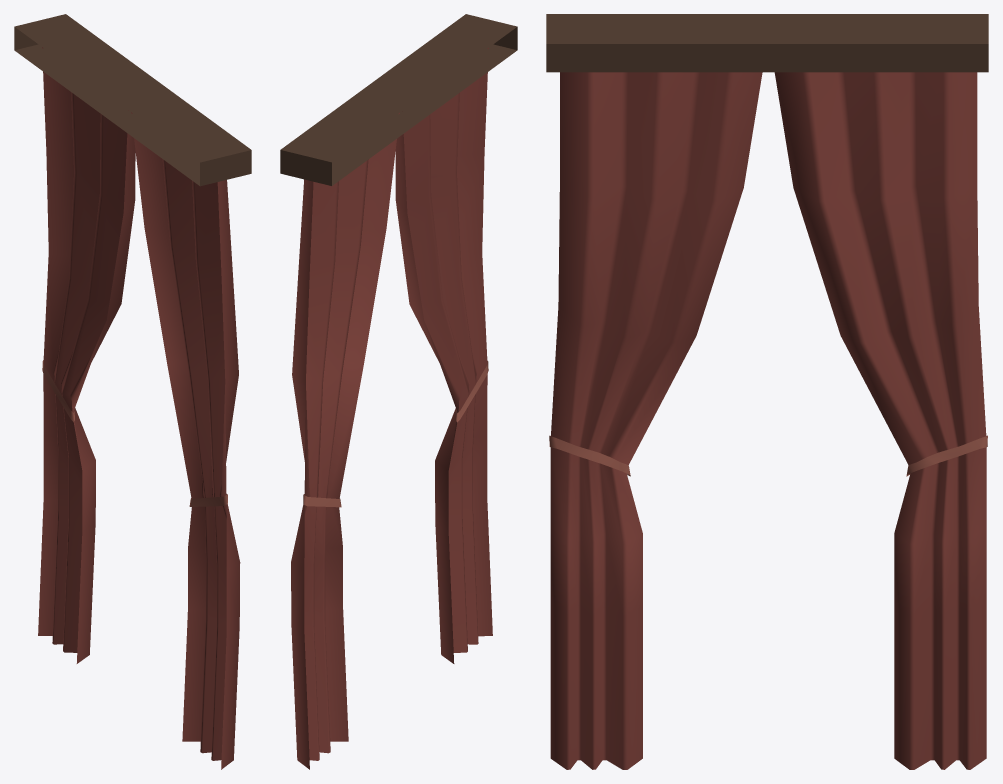
Rendered from S_Curtains.fbx.
The picture shows the model from 3 angles, left to right: view 1: azimuth 30°, elevation 25°; view 2: azimuth 150°, elevation 25°; view 3: azimuth 270°, elevation 25°; orthographic projection. The views are drawn at different scales.
Parts seen in each view (by area): view 1: S_Curtains; view 2: S_Curtains; view 3: S_Curtains.
Boxes of the visible parts, <box> form: S_Curtains: <box>14,14,251,769</box>; S_Curtains: <box>280,14,517,769</box>; S_Curtains: <box>546,14,988,769</box>.
Bounding box in the file's own units: 24.26 × 267 × 147.
